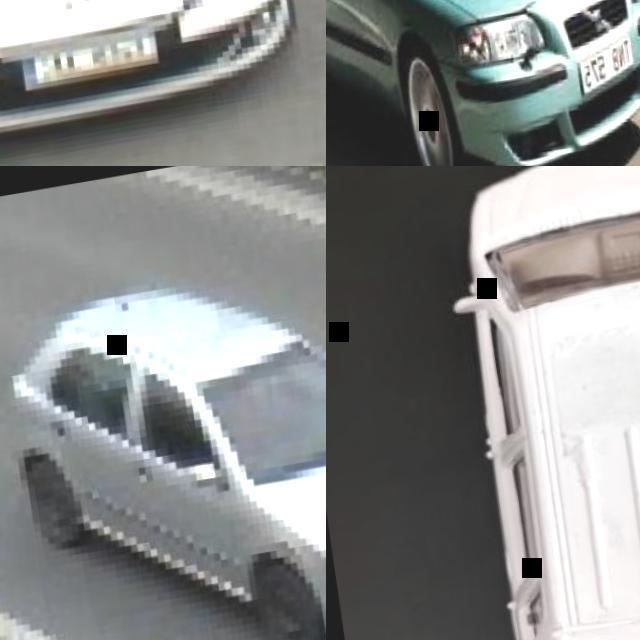car: (10, 284, 322, 617), (325, 0, 629, 161)
